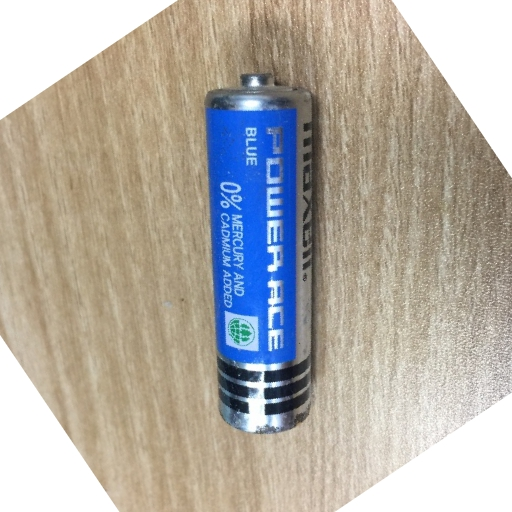Battery_0: (198, 57, 338, 450)
